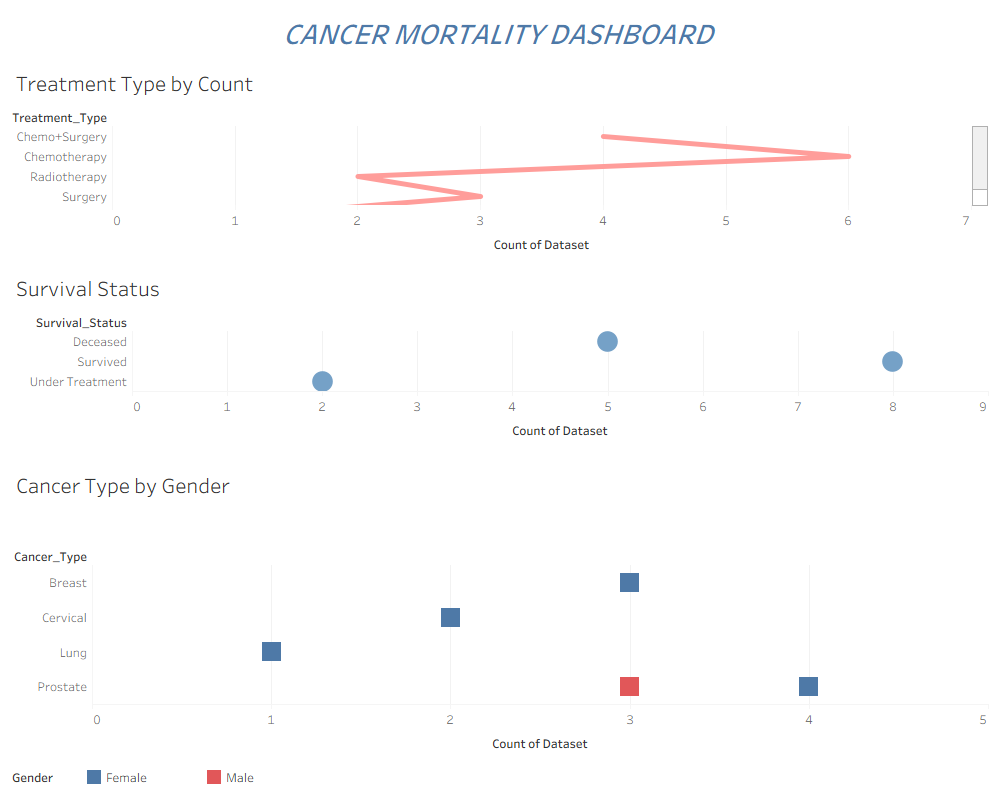

Layout of this report page (visuals, bound fields, positions):
{"tool":"tableau","page":{"name":"Dashboard 1","canvas":[1000,800],"ordinal":0},"visuals":[{"type":"title","box":[8,8,984,51]},{"type":"worksheet","title":"Sheet 1","mark":"Line","rows":["F9"],"cols":["Dataset_2703FE4B30354D8DB5E20F362E3A6887"],"box":[8,59,984,205]},{"type":"worksheet","title":"Sheet 2","mark":"Circle","rows":["F10"],"cols":["Dataset_2703FE4B30354D8DB5E20F362E3A6887"],"box":[8,264,984,197]},{"type":"worksheet","title":"Sheet 3","mark":"Square","rows":["F4"],"cols":["Dataset_2703FE4B30354D8DB5E20F362E3A6887"],"box":[8,461,984,302]},{"type":"legend","title":"Sheet 3","param":"[federated.158f6uk0gnyijk19scwnu1j2tke1].[none:F3:nk]","box":[8,763,984,29]}]}

Visuals, with their boxes in screenshot pixels (x1, y1, x2, y2), scaled from the page's 1000x800 canvas onto the 1000x800 screenshot:
title: pyautogui.locateOnScreen(8, 8, 992, 59)
"Sheet 1" worksheet (Line marks): pyautogui.locateOnScreen(8, 59, 992, 264)
"Sheet 2" worksheet (Circle marks): pyautogui.locateOnScreen(8, 264, 992, 461)
"Sheet 3" worksheet (Square marks): pyautogui.locateOnScreen(8, 461, 992, 763)
"Sheet 3" legend: pyautogui.locateOnScreen(8, 763, 992, 792)
